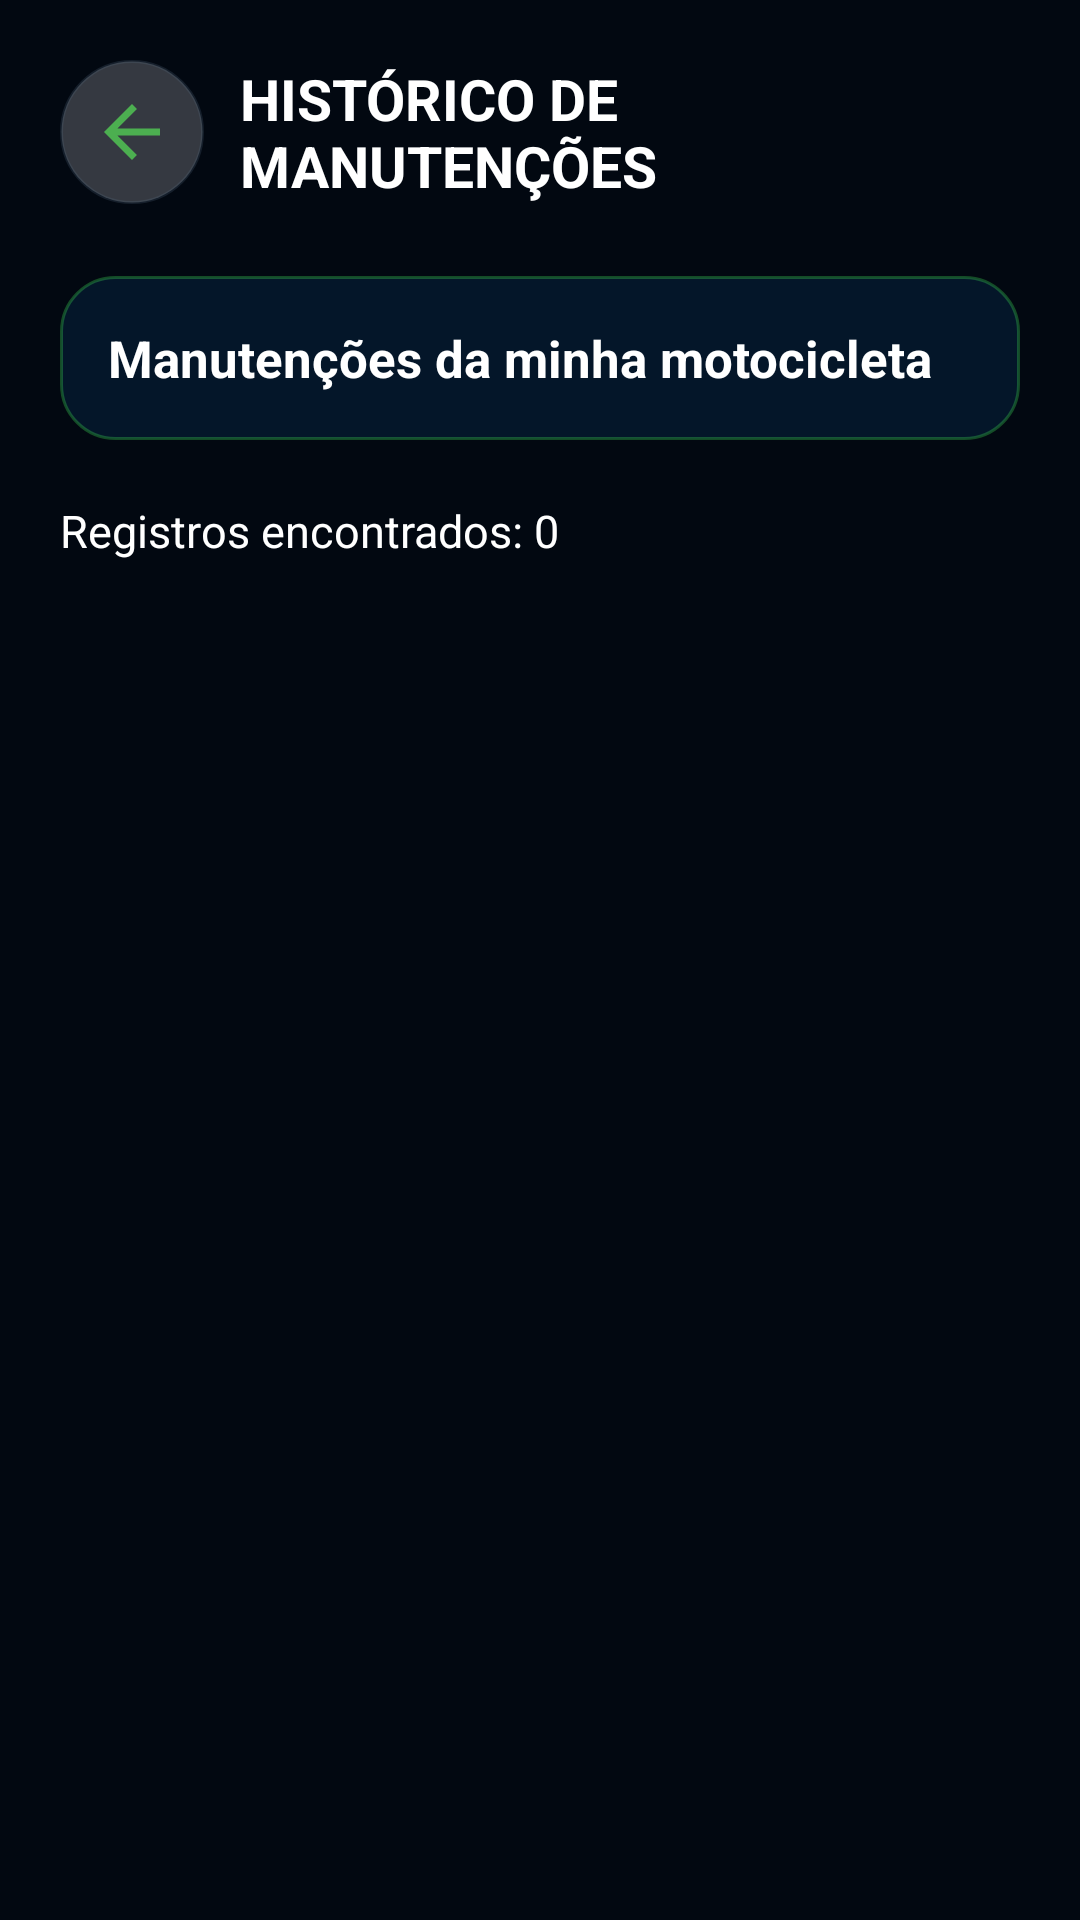

Point at icon controls on the screen. Image size 1080*1920, points as [x,y].
Voltar: [131,132]
